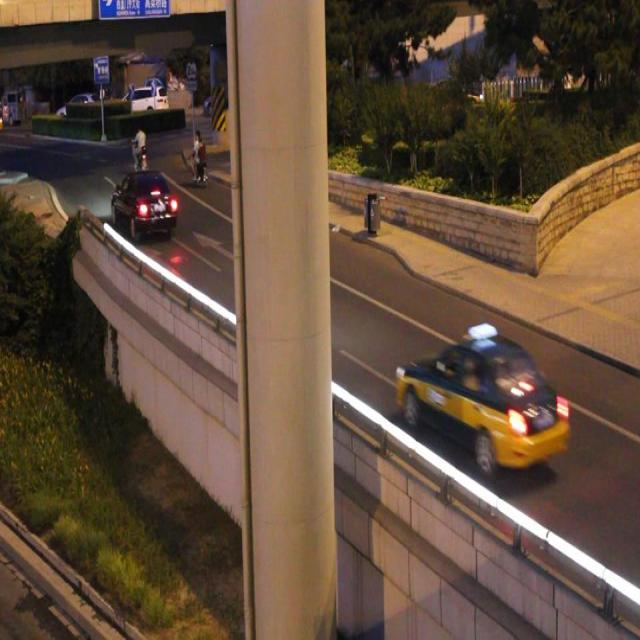car: (396, 329, 568, 460), (113, 172, 176, 230)
